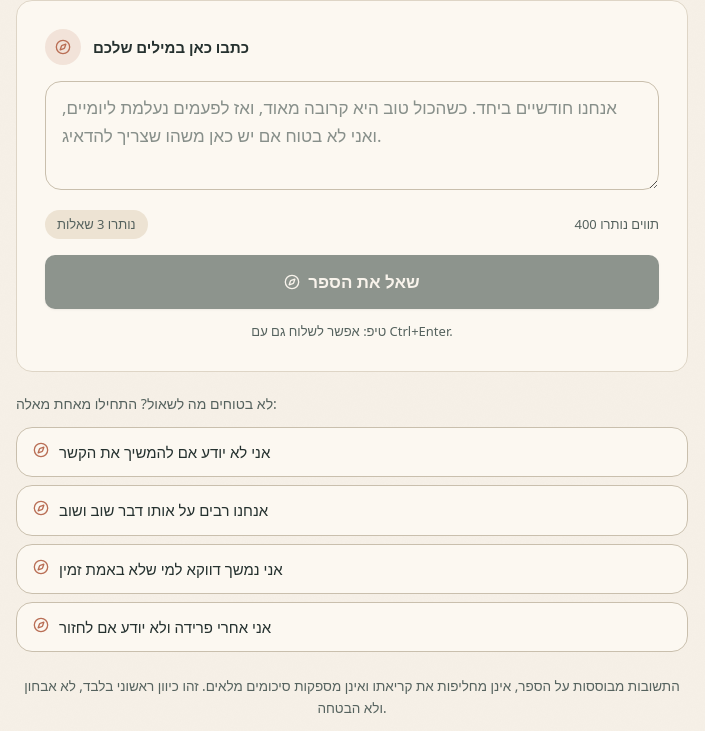
CompassConsole, safety response › never renders an empty result for an unknown future status
The image size is (705, 731).
Replace the text in the text box labelled "כתבו כאן במילים שלכם" with "שאלה רגילה על זוגיות" at (352, 135), box [45,81,659,190]
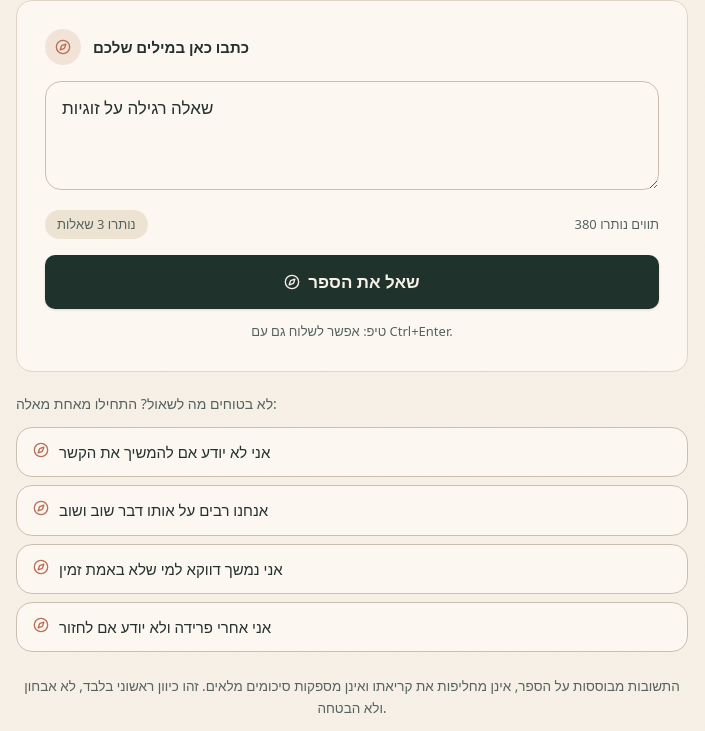
Click the button "שאל את הספר" at (352, 282), box [45,255,659,309]
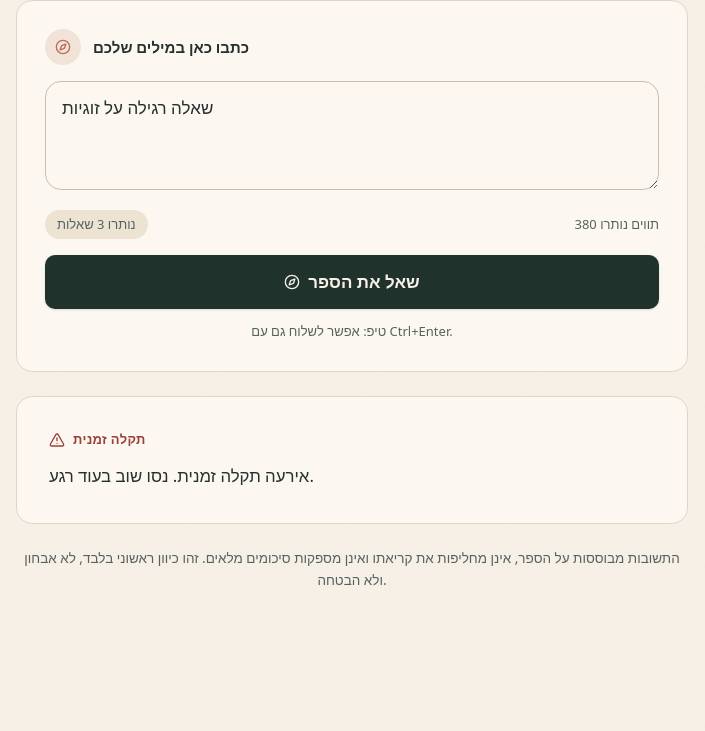
Expected: the text "אירעה תקלה זמנית. נסו שוב בעוד רגע." is shown, [49,464,314,487]
